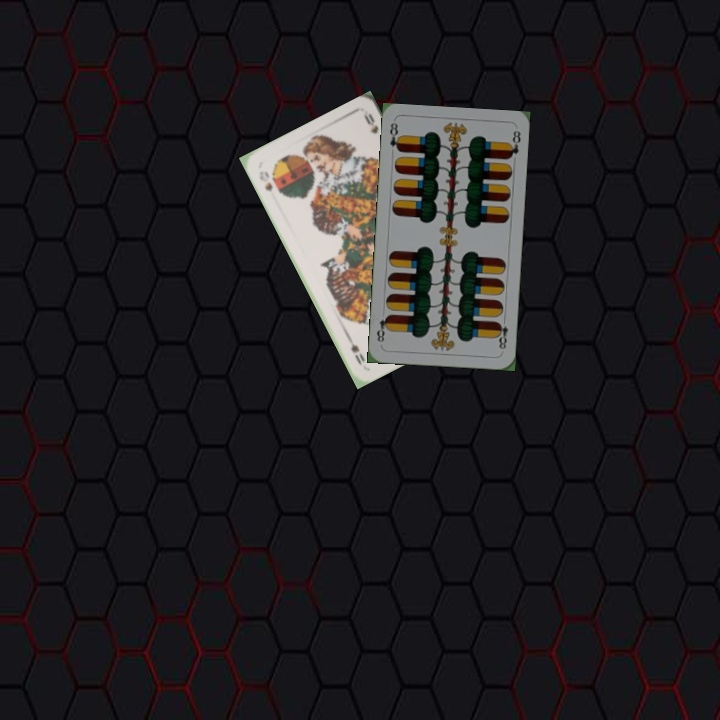E8: (493, 313, 510, 352), (386, 119, 403, 154)
SO: (255, 167, 275, 194)
